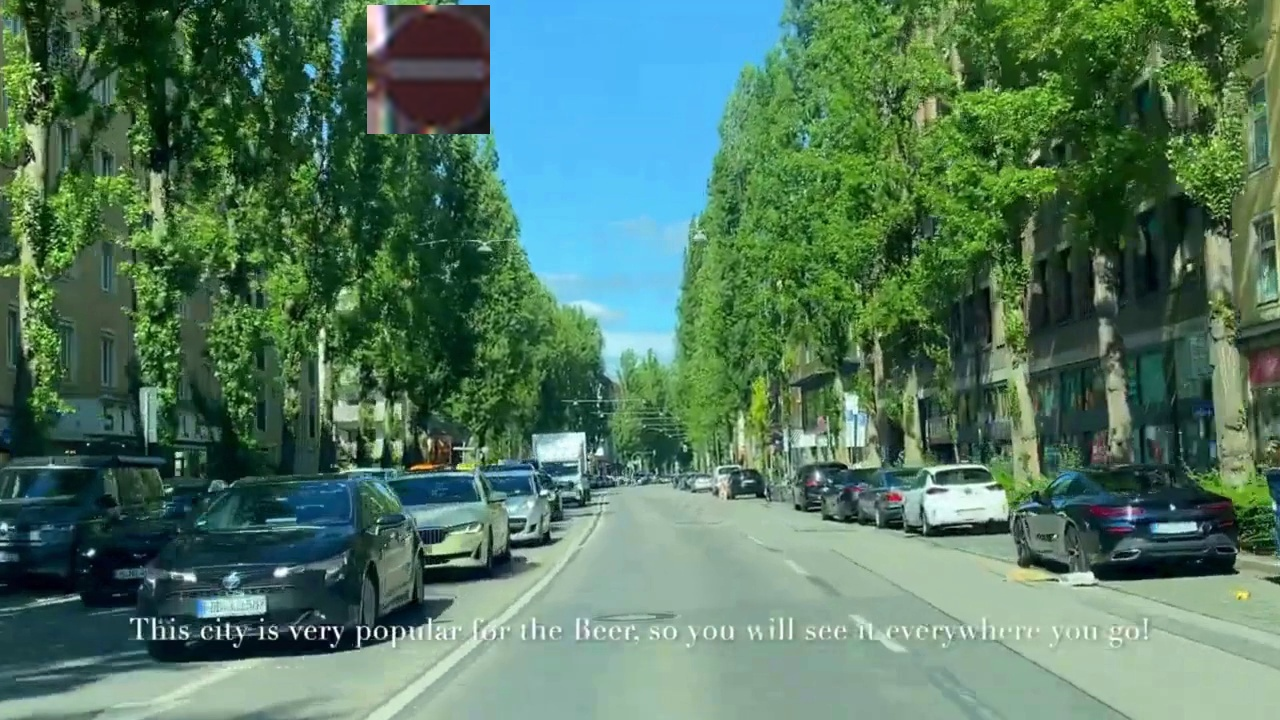No entry: (367, 5, 490, 134)
